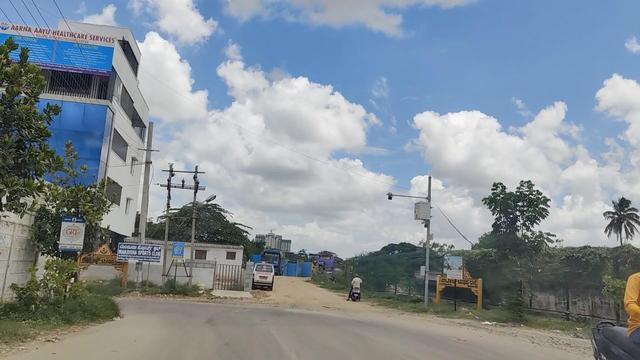LMV: (252, 262, 276, 288), (351, 273, 363, 300)
